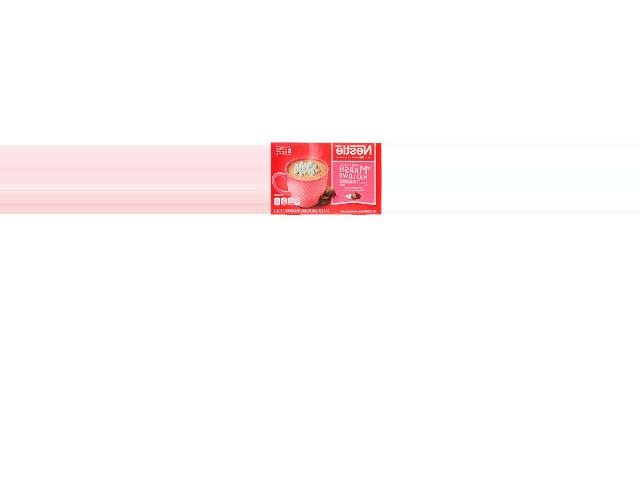chocolate: (269, 145, 378, 219)
